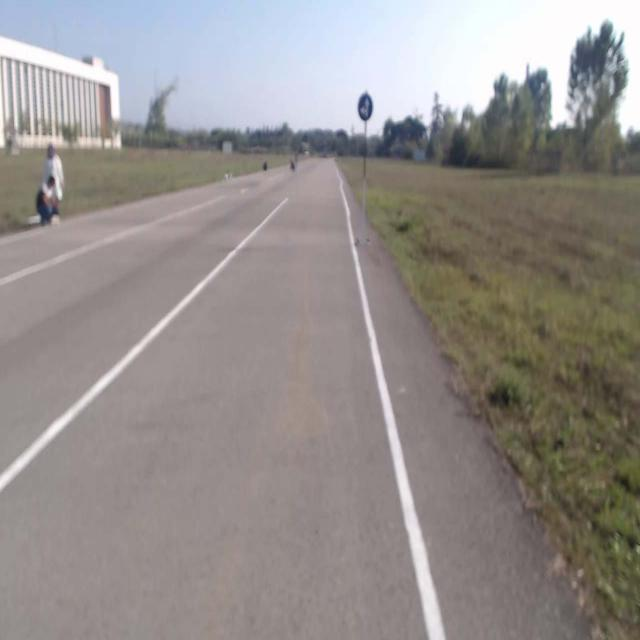ilerisol: (358, 94, 373, 121)
